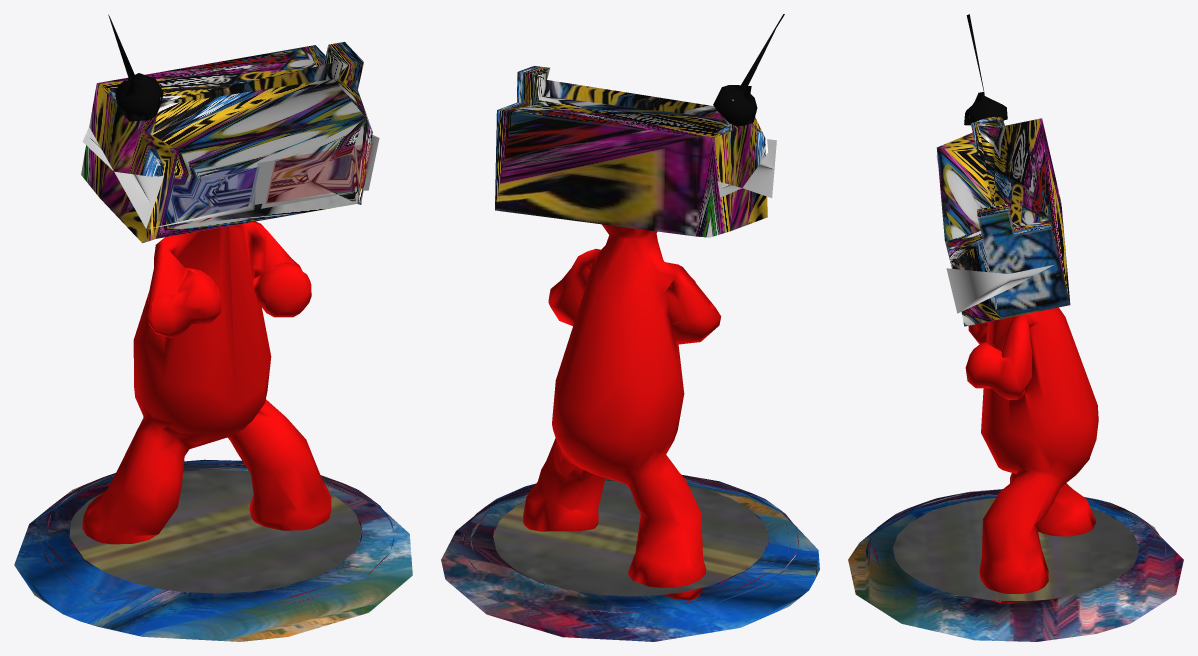
3 renders of one model, left to right at view 1: azimuth 30°, elevation 25°; view 2: azimuth 150°, elevation 25°; view 3: azimuth 270°, elevation 25°, orthographic. The views are drawn at different scales.
Bounding box in the file's own units: 1.44 × 2.36 × 1.43.
Materials: 8 (3 with a texture image).
